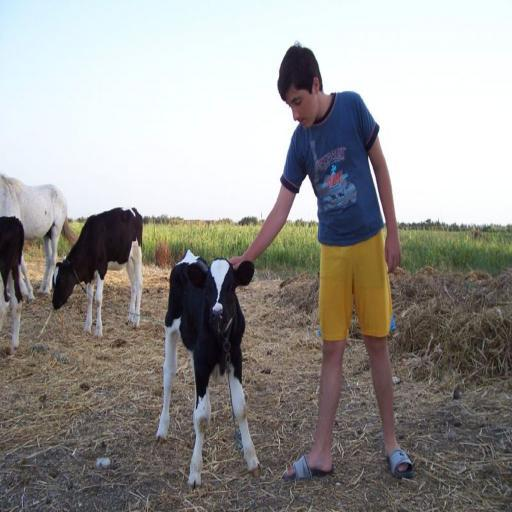Horse: (0, 173, 76, 297)
